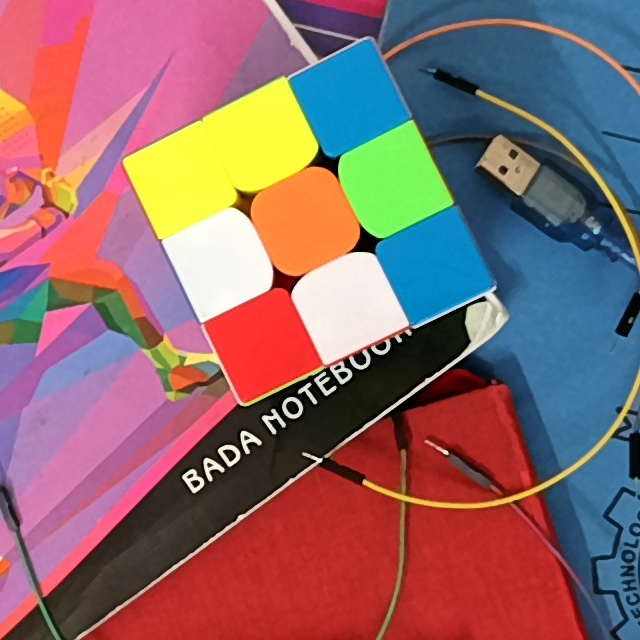tile: (270, 190, 339, 255), (402, 234, 469, 299), (357, 149, 424, 213), (316, 68, 381, 132), (227, 109, 294, 169), (190, 232, 254, 294), (232, 313, 294, 375), (319, 273, 381, 334), (150, 149, 212, 209)
